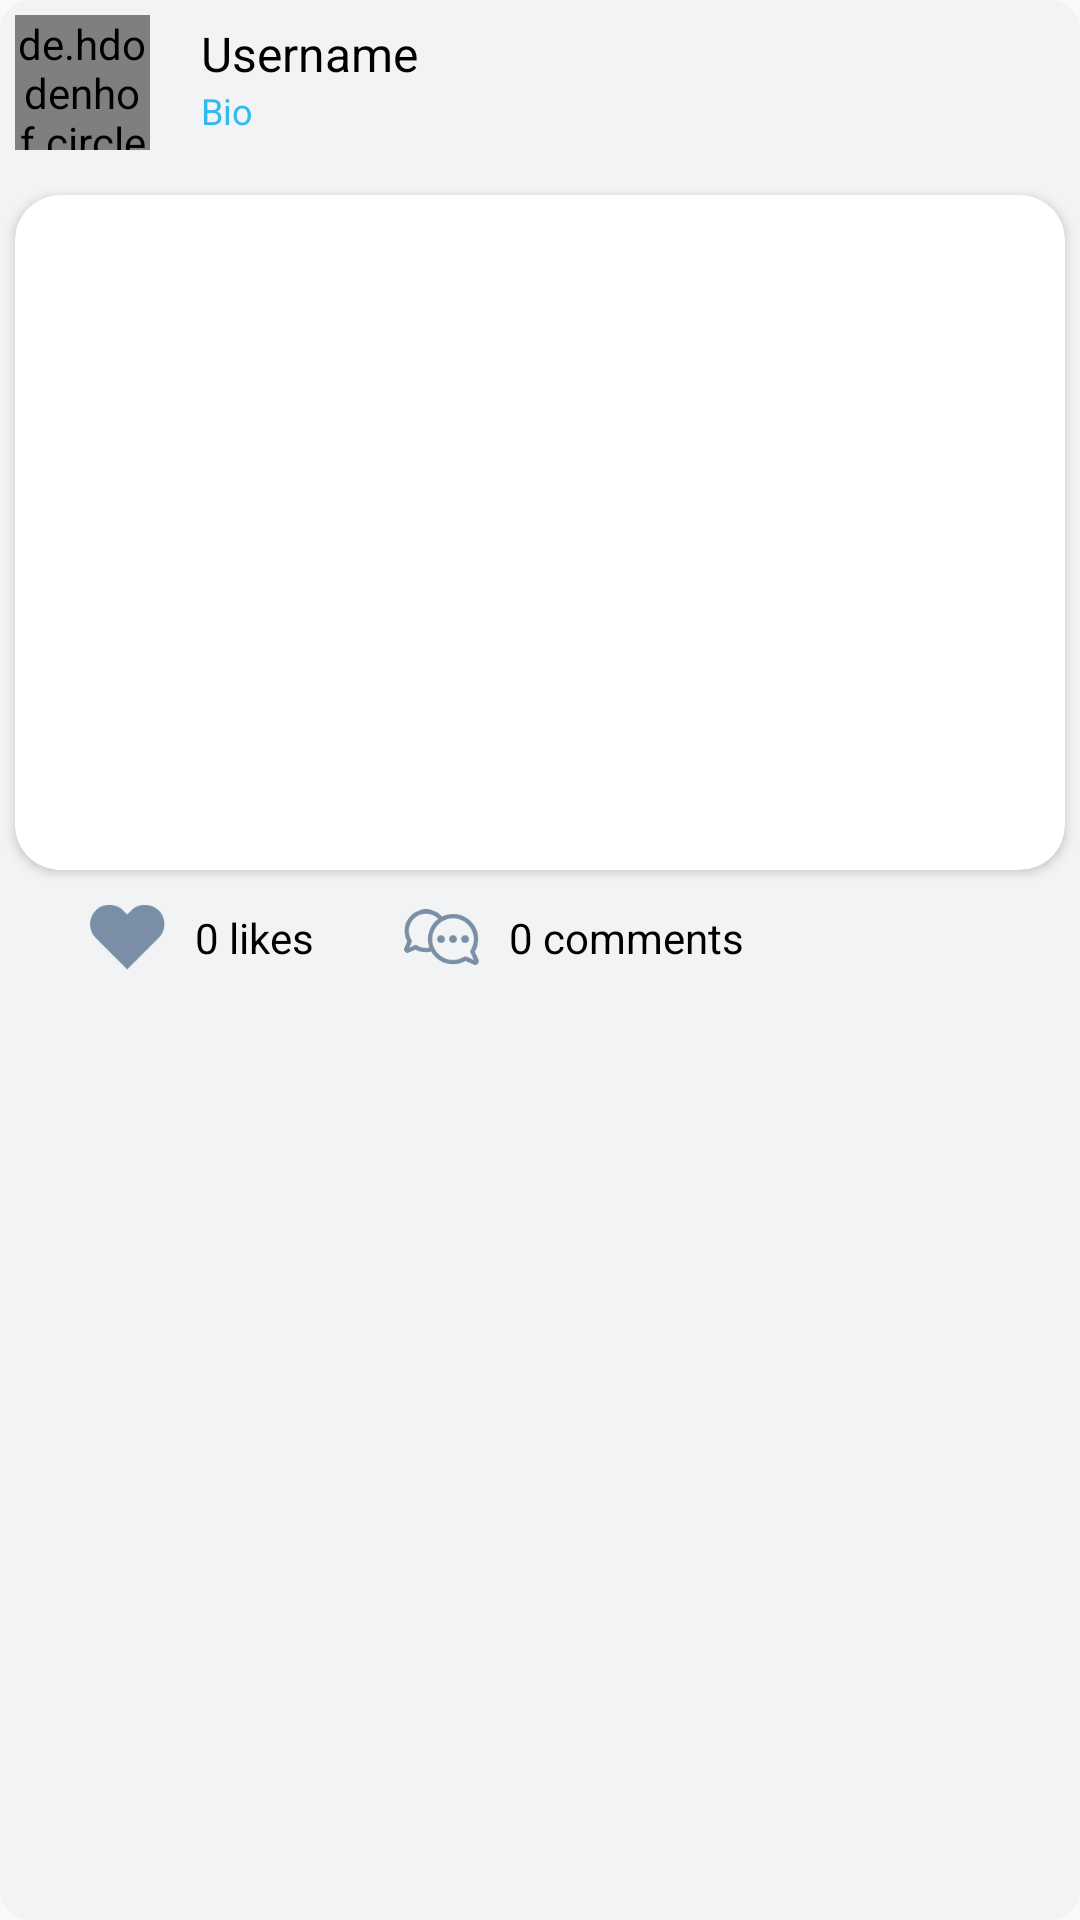

Icon bounding boxes for this 1080*1920 phone screenshot, format box(x1, y1, x2, y2):
heart not clicked: box(90, 905, 165, 970)
